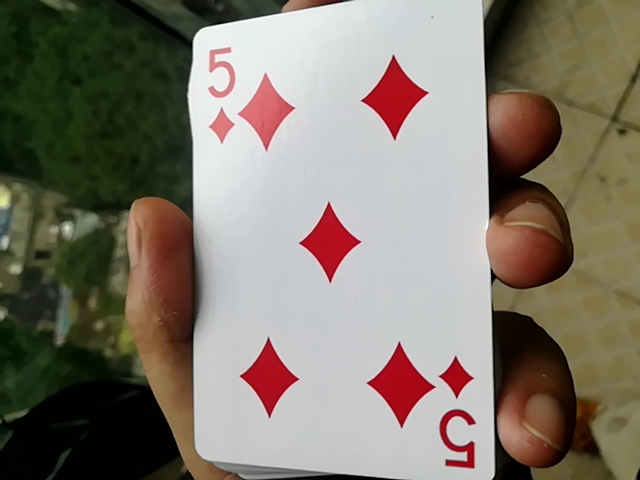fk 5: (168, 0, 497, 476)
